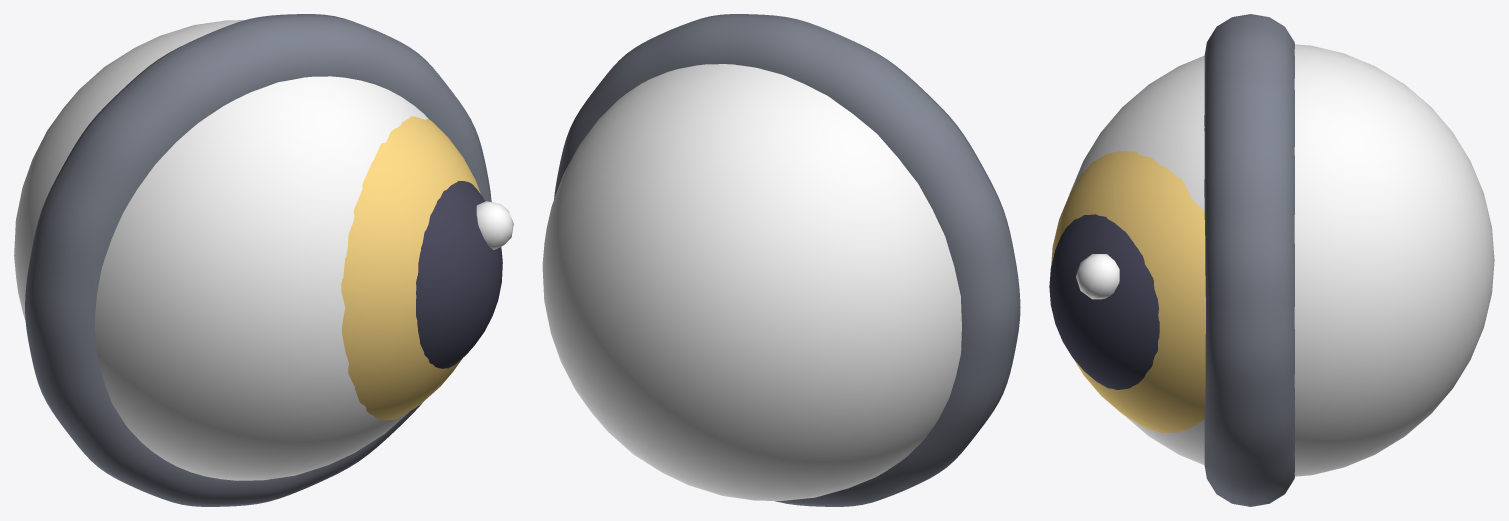
The model's file is creature.bulgeeye.glb.
3 views of the same model, side by side, from view 1: azimuth 30°, elevation 25°; view 2: azimuth 150°, elevation 25°; view 3: azimuth 270°, elevation 25° (orthographic). The views are drawn at different scales.
Parts seen in each view (by area): view 1: EyeWhite, BackSkin, Beak, Pupil, Glint; view 2: EyeWhite, BackSkin; view 3: EyeWhite, BackSkin, Beak, Pupil, Glint.
Part boxes in pixels (x1=…): EyeWhite: x1=14, y1=20, x2=428, y2=480; BackSkin: x1=25, y1=14, x2=491, y2=506; Beak: x1=341, y1=116, x2=480, y2=420; Pupil: x1=416, y1=181, x2=502, y2=368; Glint: x1=476, y1=201, x2=513, y2=249; EyeWhite: x1=542, y1=64, x2=961, y2=500; BackSkin: x1=554, y1=14, x2=1020, y2=506; EyeWhite: x1=1070, y1=44, x2=1494, y2=476; BackSkin: x1=1204, y1=14, x2=1294, y2=506; Beak: x1=1051, y1=151, x2=1205, y2=433; Pupil: x1=1049, y1=214, x2=1159, y2=389; Glint: x1=1076, y1=254, x2=1119, y2=299.
Bounding box in the file's own units: 2.27 × 2.27 × 2.04.
